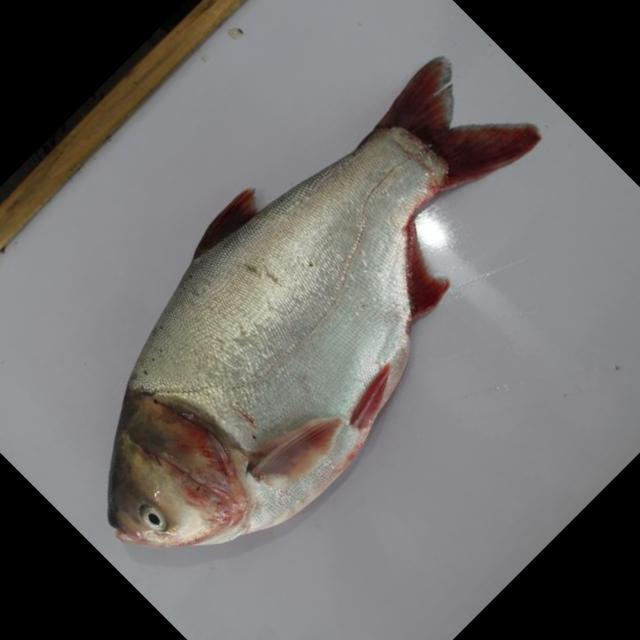SilverCarp: (67, 70, 534, 549)
